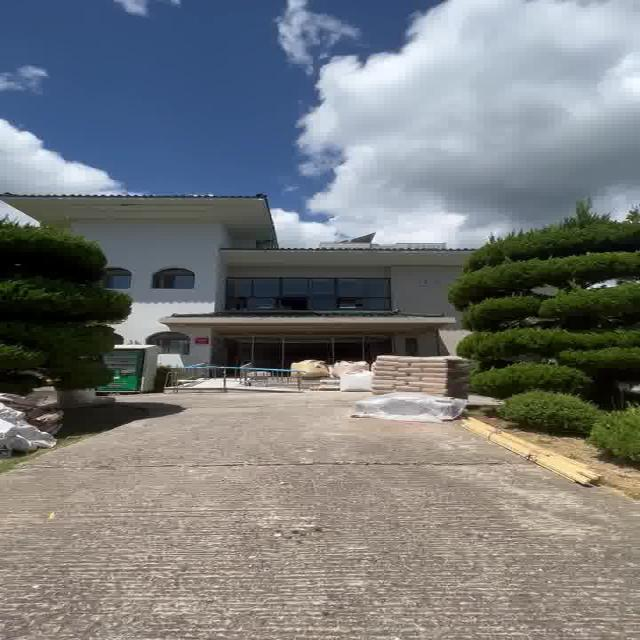building: (84, 189, 454, 349)
